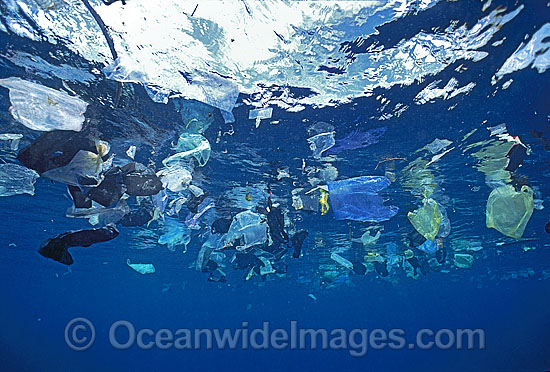litter: (1, 87, 90, 136), (317, 176, 404, 223), (175, 66, 239, 125), (35, 225, 125, 266), (16, 126, 105, 167), (45, 152, 119, 193), (484, 184, 536, 241), (405, 195, 452, 244), (1, 143, 39, 202), (221, 211, 277, 250), (158, 143, 206, 188), (118, 163, 174, 198), (153, 210, 197, 254), (301, 118, 336, 160), (242, 102, 285, 134), (503, 141, 535, 175), (119, 258, 165, 278), (452, 246, 479, 274), (326, 247, 355, 270), (358, 225, 384, 248)
